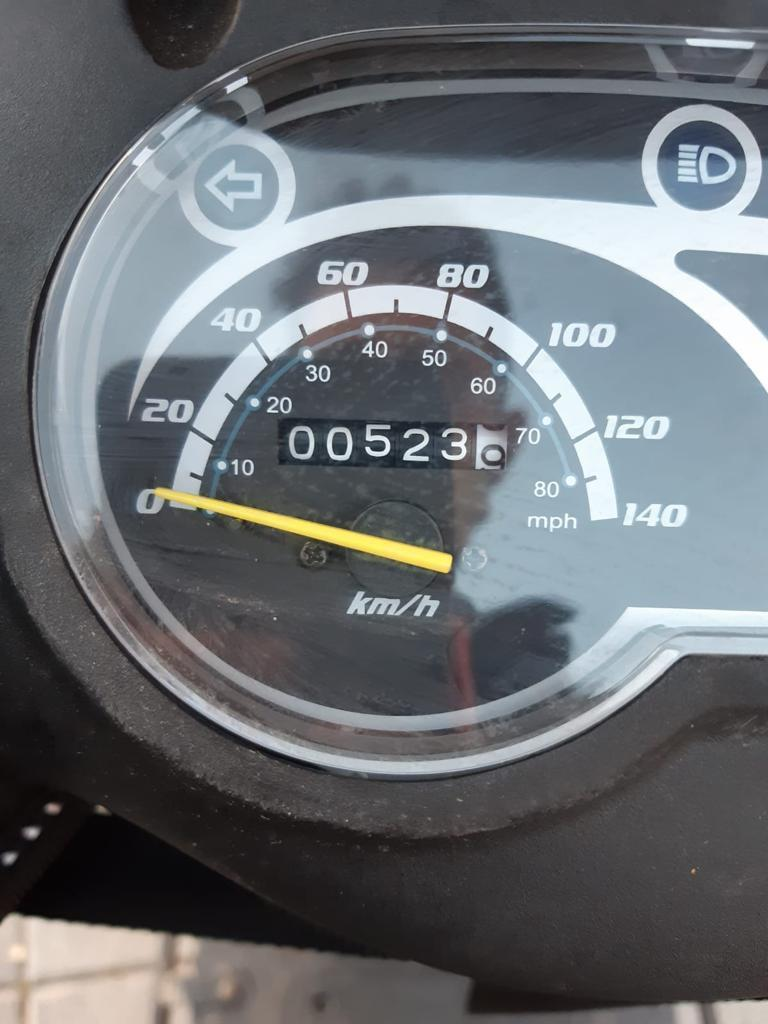0: (323, 422, 355, 463), (284, 423, 318, 461)
2: (399, 425, 431, 463)
3: (438, 426, 470, 462)
5: (362, 421, 394, 458)
9: (476, 443, 507, 473)
odometer: (272, 410, 514, 476)
